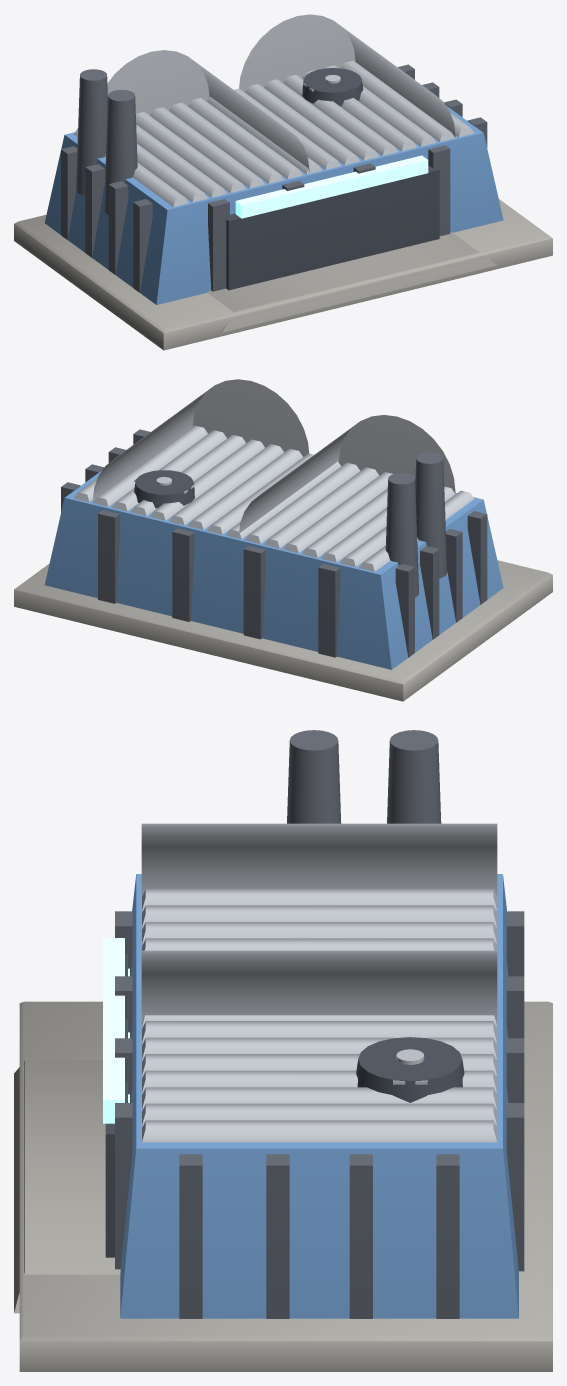
Rendered from weap.glb.
3 views of the same model, one above another, from view 1: azimuth 30°, elevation 25°; view 2: azimuth 150°, elevation 25°; view 3: azimuth 270°, elevation 25° (orthographic). The views are drawn at different scales.
Parts seen in each view (by area): view 1: Hull; view 2: Hull; view 3: Hull.
Boxes of the visible parts, bbox=[...] form: Hull: bbox=[14, 14, 552, 350]; Hull: bbox=[14, 379, 552, 701]; Hull: bbox=[14, 730, 552, 1371].
Size of the model in its own units: 5.18 by 2.35 by 3.49.
